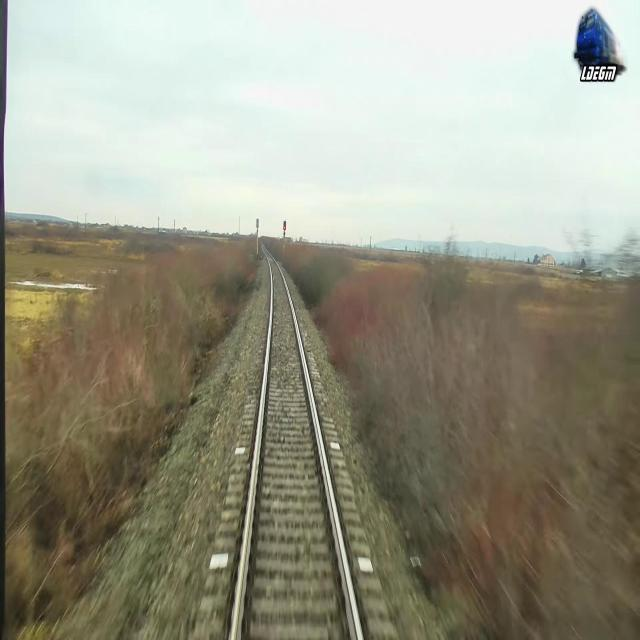rail-track: (235, 243, 357, 639)
